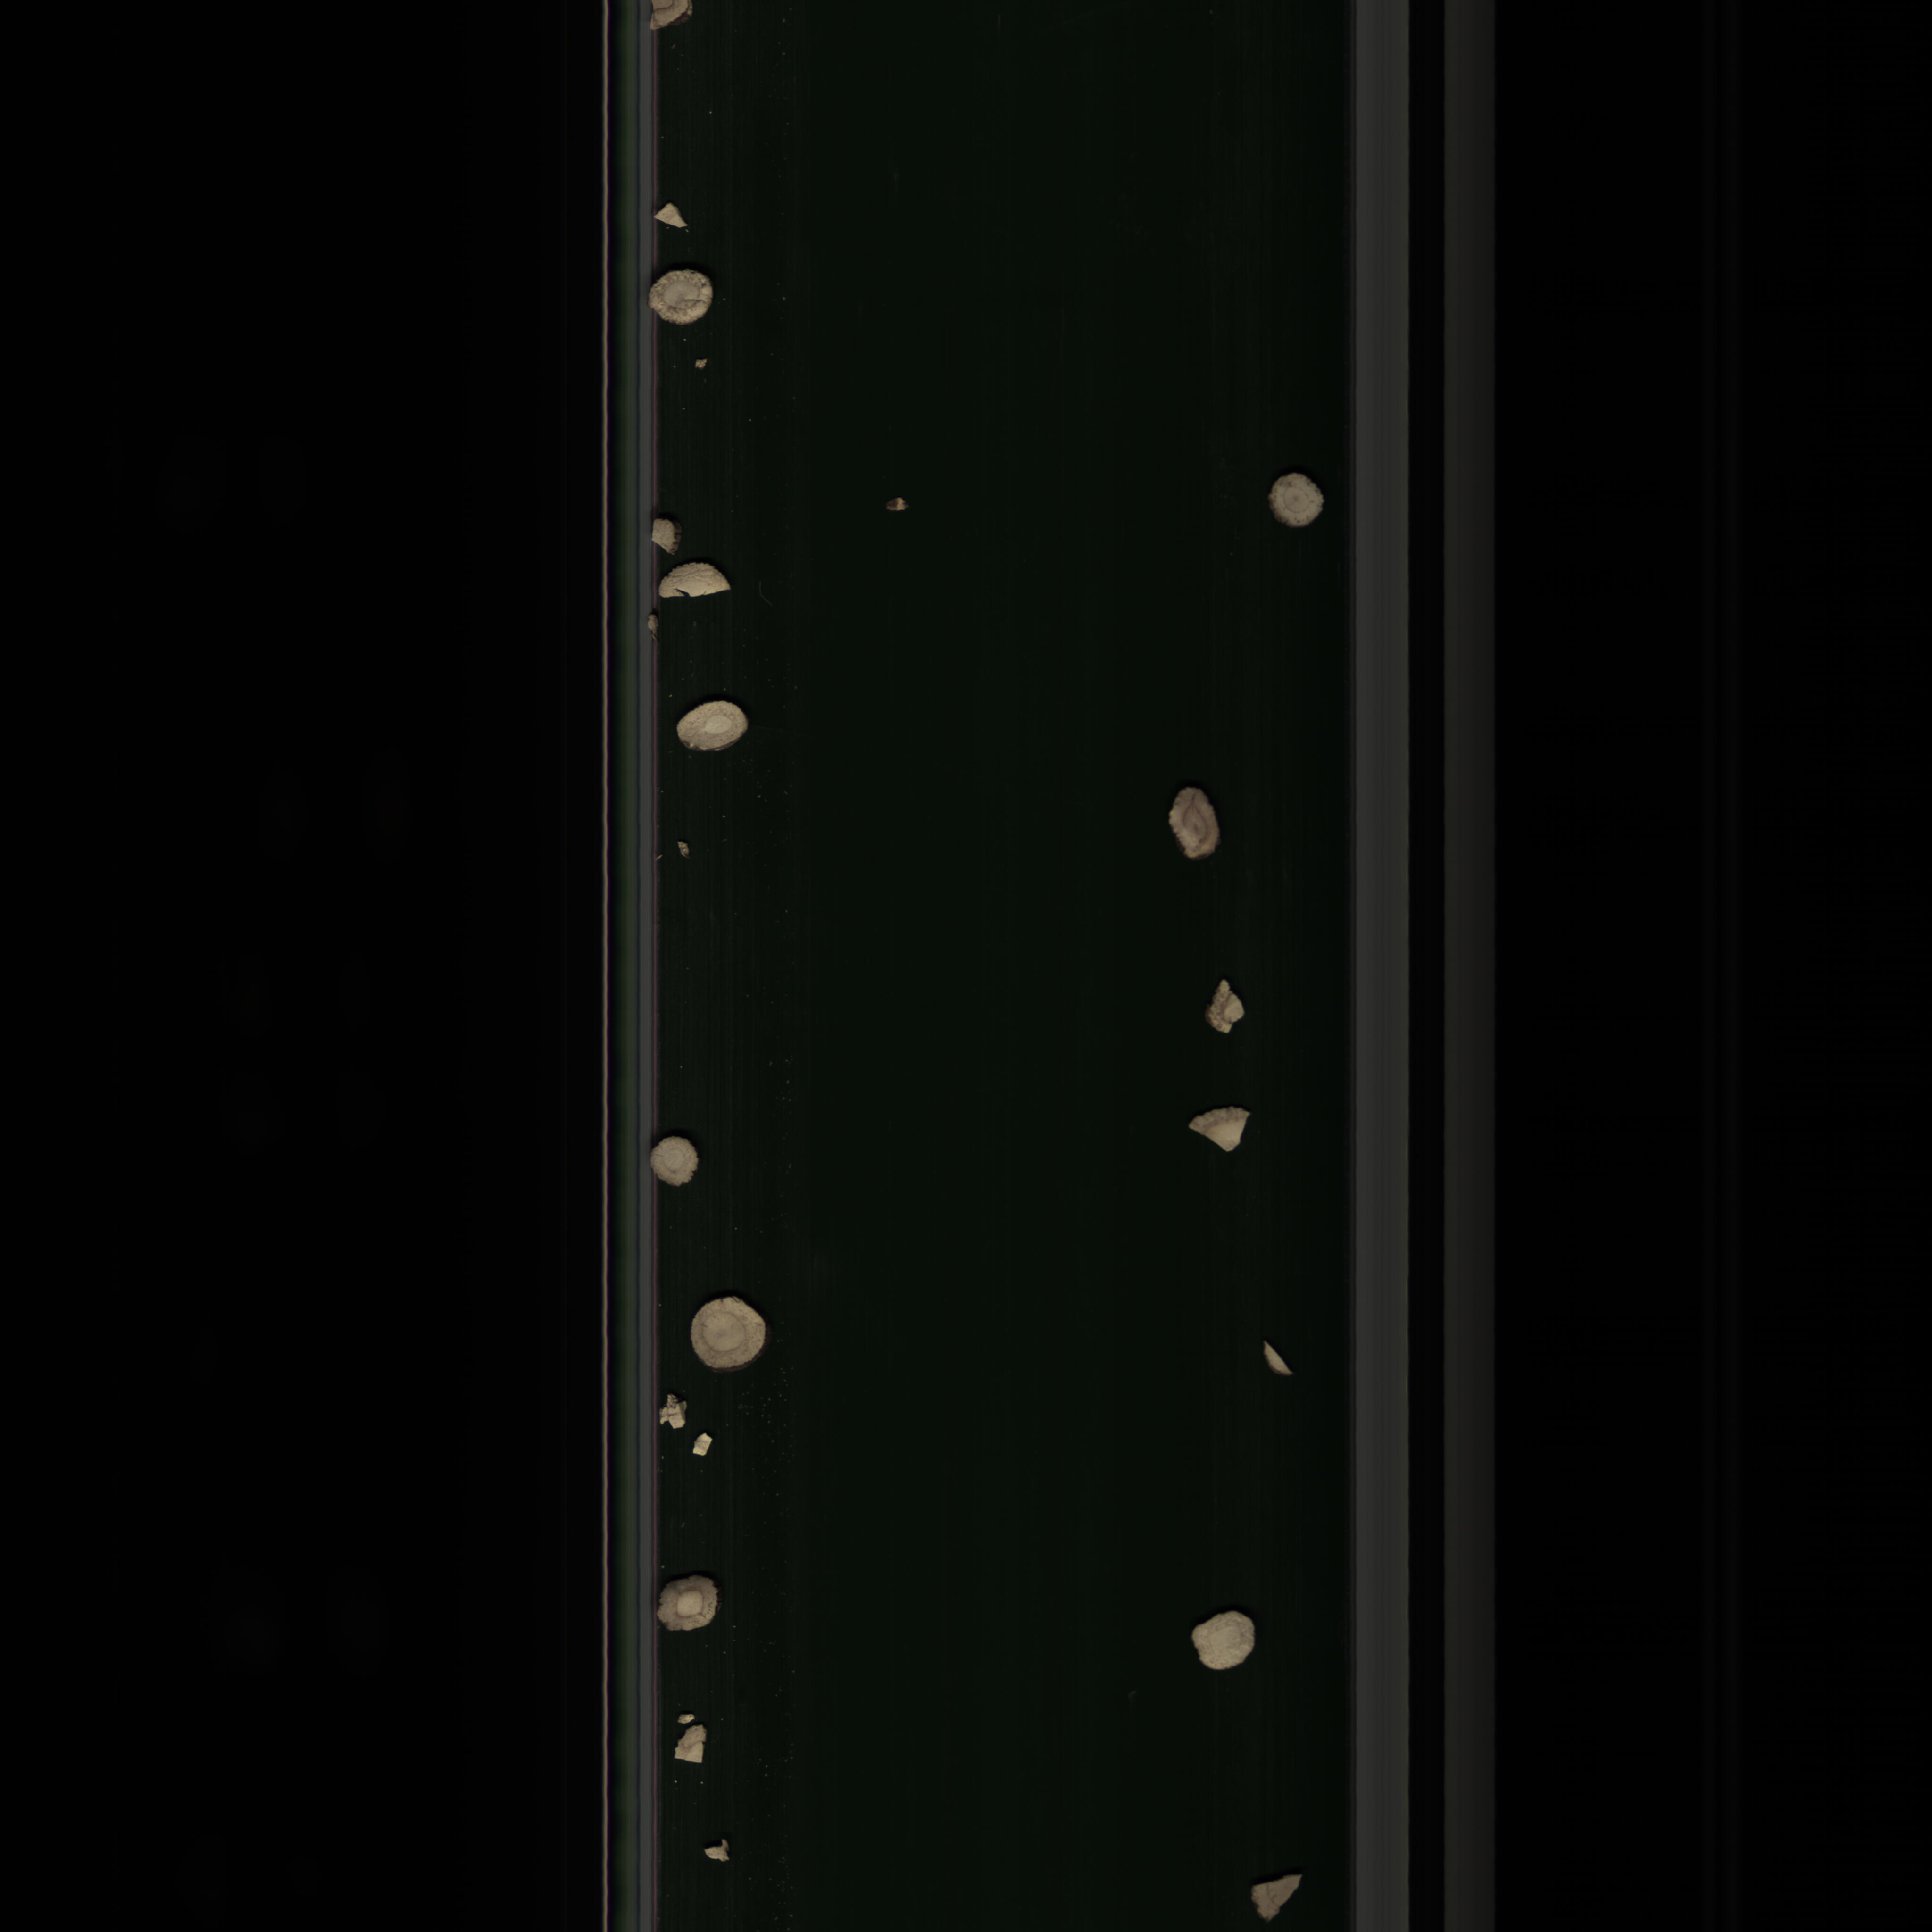debris: (1168, 773, 1223, 869), (1231, 1867, 1306, 1927), (1185, 1102, 1258, 1161), (649, 561, 750, 600), (669, 1706, 724, 1776), (1203, 966, 1246, 1042), (1253, 1332, 1295, 1384), (648, 1387, 690, 1435), (649, 196, 694, 239), (648, 510, 678, 563), (692, 1426, 722, 1465)
moldy: (648, 1568, 731, 1638)
